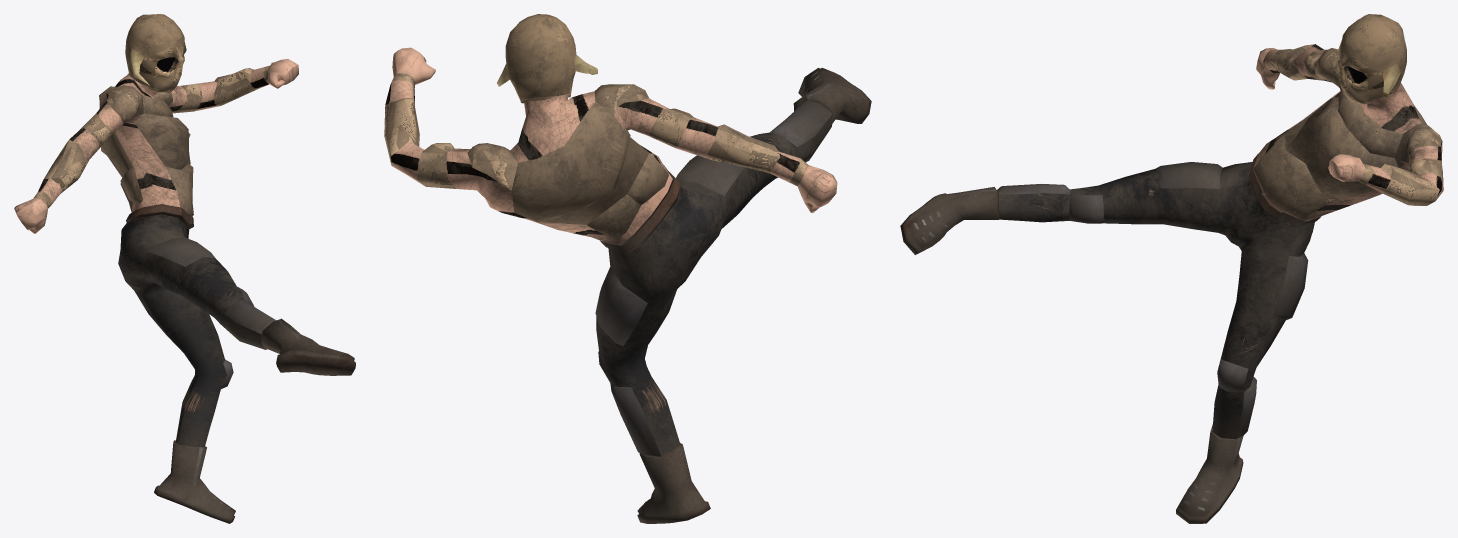
The model's file is Anim_ataque_f1_npc1.0018.obj.
3 views of the same model, side by side, from view 1: azimuth 30°, elevation 25°; view 2: azimuth 150°, elevation 25°; view 3: azimuth 270°, elevation 25° (orthographic). The views are drawn at different scales.
Parts seen in each view (by area): view 1: NPC2; view 2: NPC2; view 3: NPC2.
Boxes of the visible parts, x1,y1,x2,y2 form: NPC2: (14,14,355,523); NPC2: (384,14,871,523); NPC2: (900,14,1443,523).
Bounding box in the file's own units: 6.6 × 8.97 × 8.7.
